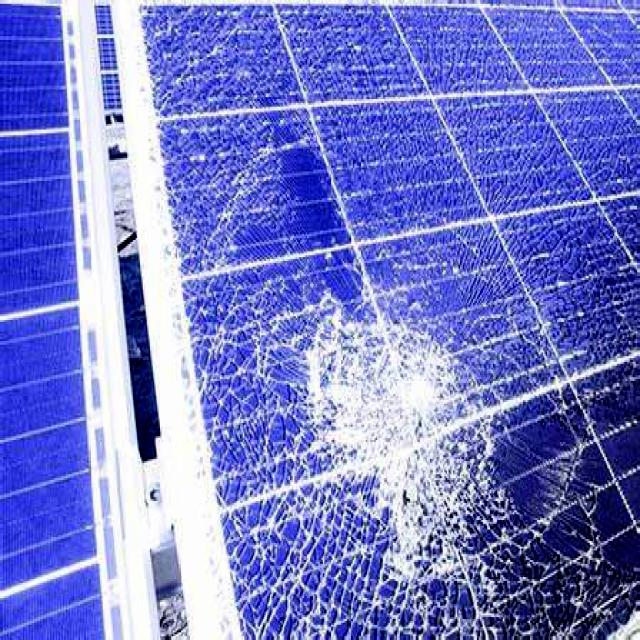hotspot: (276, 293, 518, 575), (200, 252, 247, 387)
